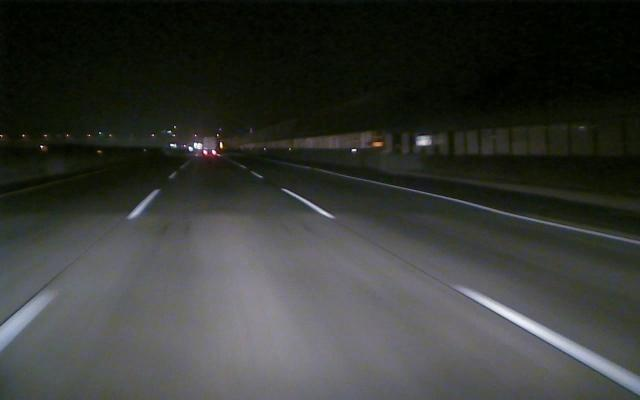lane: (280, 186, 640, 395), (0, 188, 164, 352), (317, 168, 639, 246)
